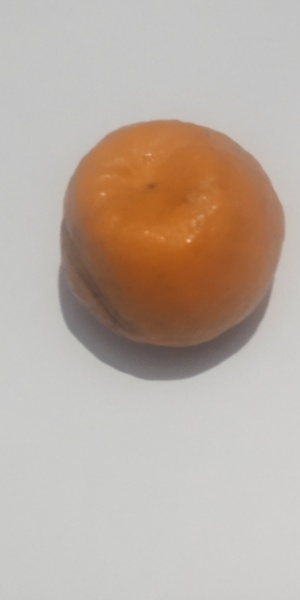BAD: (60, 116, 293, 349)
